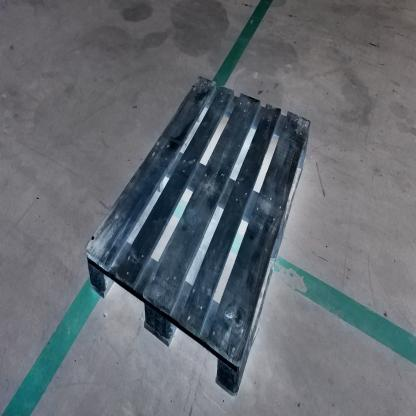BoxFace: (82, 72, 315, 403)
